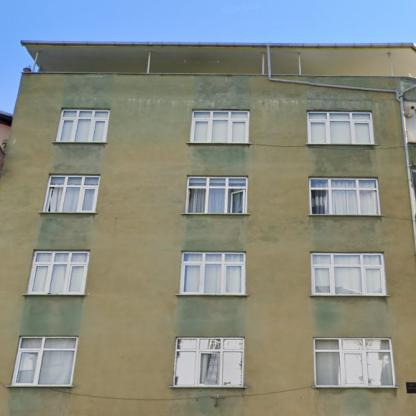window: (315, 339, 394, 386), (174, 338, 243, 386), (14, 337, 78, 385), (312, 254, 382, 294), (310, 178, 380, 214), (30, 251, 88, 294), (183, 253, 244, 293), (187, 178, 246, 212), (309, 112, 373, 143), (44, 176, 99, 212), (57, 109, 110, 141), (191, 111, 247, 141)
